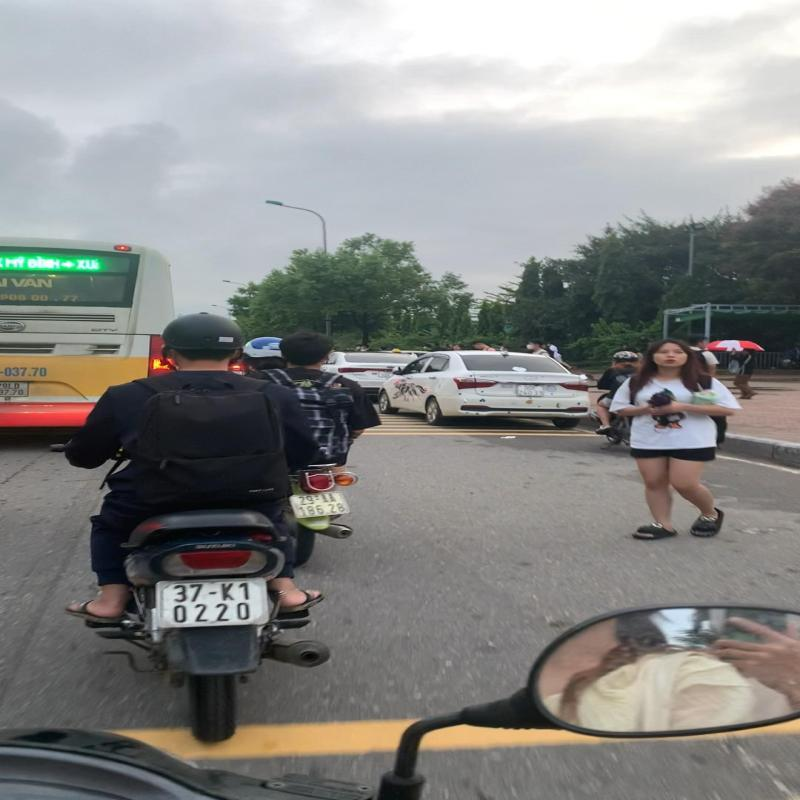helmet: (160, 310, 250, 364)
licenseplate: (150, 574, 275, 632), (287, 489, 356, 520)
motorcyclist: (44, 305, 337, 744)
nohelmet: (280, 329, 338, 369)
